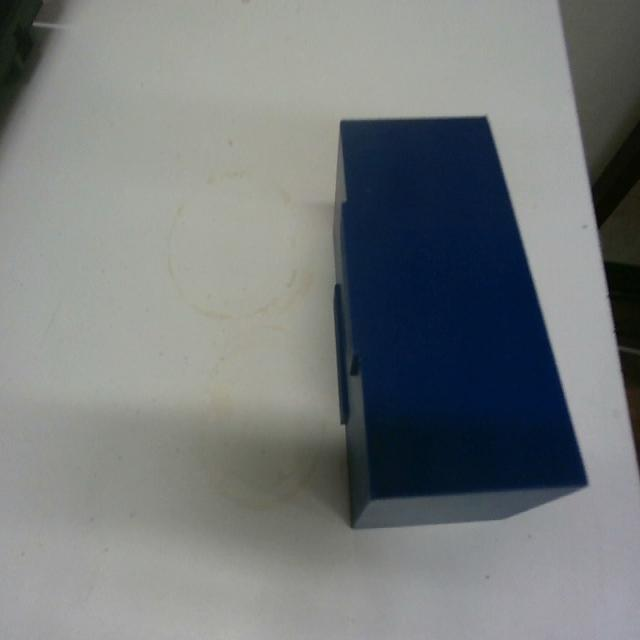Blue Cuboid: (329, 111, 589, 529)
